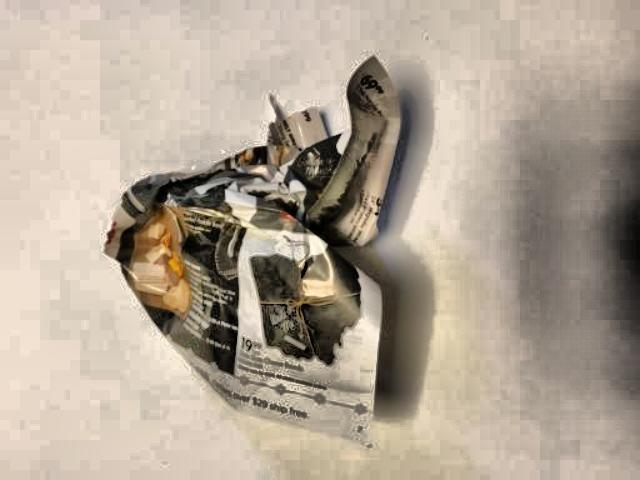Paper: (102, 52, 413, 435)
